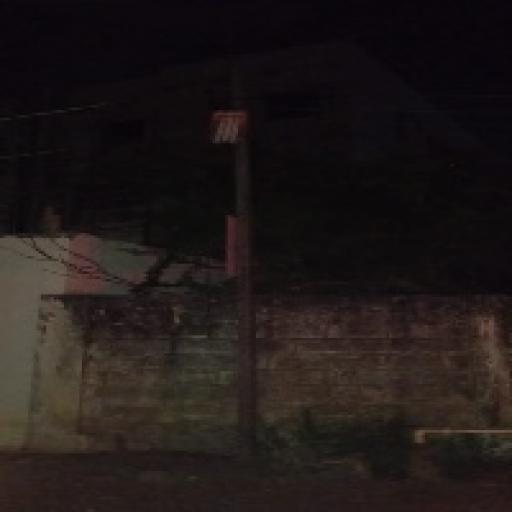Not Working: (202, 103, 255, 156)
